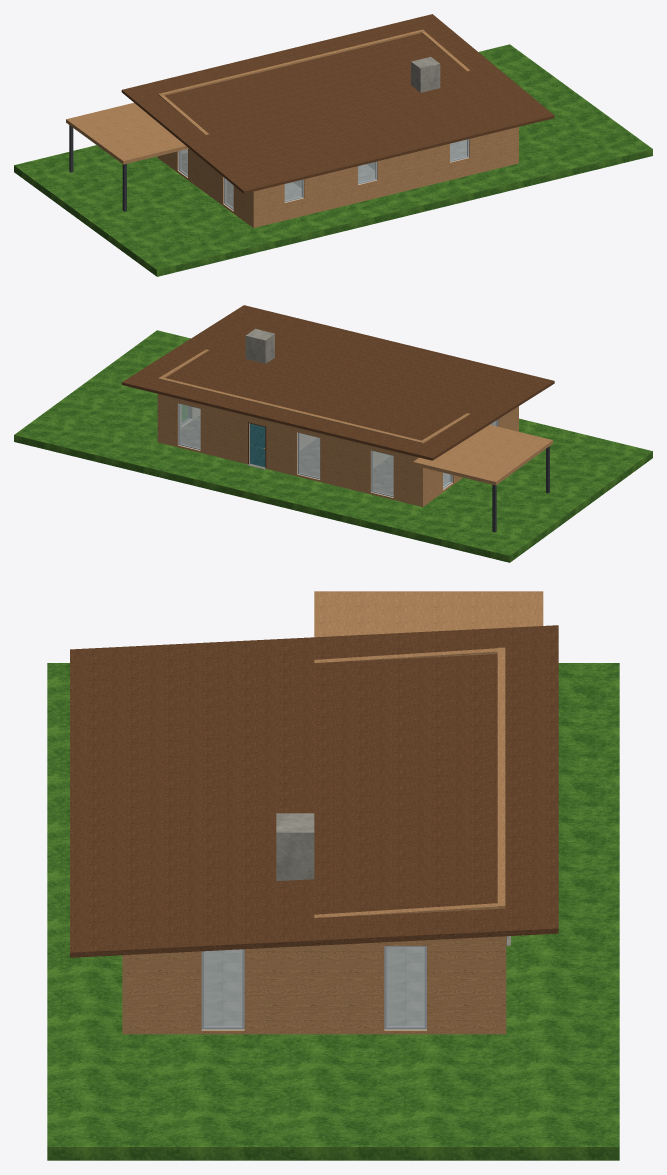
File: b_midcentury_house.gltf
The picture shows the model from 3 angles, top to bottom: view 1: azimuth 30°, elevation 25°; view 2: azimuth 150°, elevation 25°; view 3: azimuth 270°, elevation 25°; orthographic projection. The views are drawn at different scales.
Parts seen in each view (by area): view 1: S_midcentury_house; view 2: S_midcentury_house, D_midcentury_house_F1_S3_Door0; view 3: S_midcentury_house.
Part boxes in pixels (<box>): S_midcentury_house: <box>14,14,652,276</box>; S_midcentury_house: <box>14,305,652,562</box>; D_midcentury_house_F1_S3_Door0: <box>250,423,265,467</box>; S_midcentury_house: <box>47,591,619,1160</box>.
Size of the model in its own units: 30 by 5.1 by 15.
Materials: 15 (9 with a texture image).
